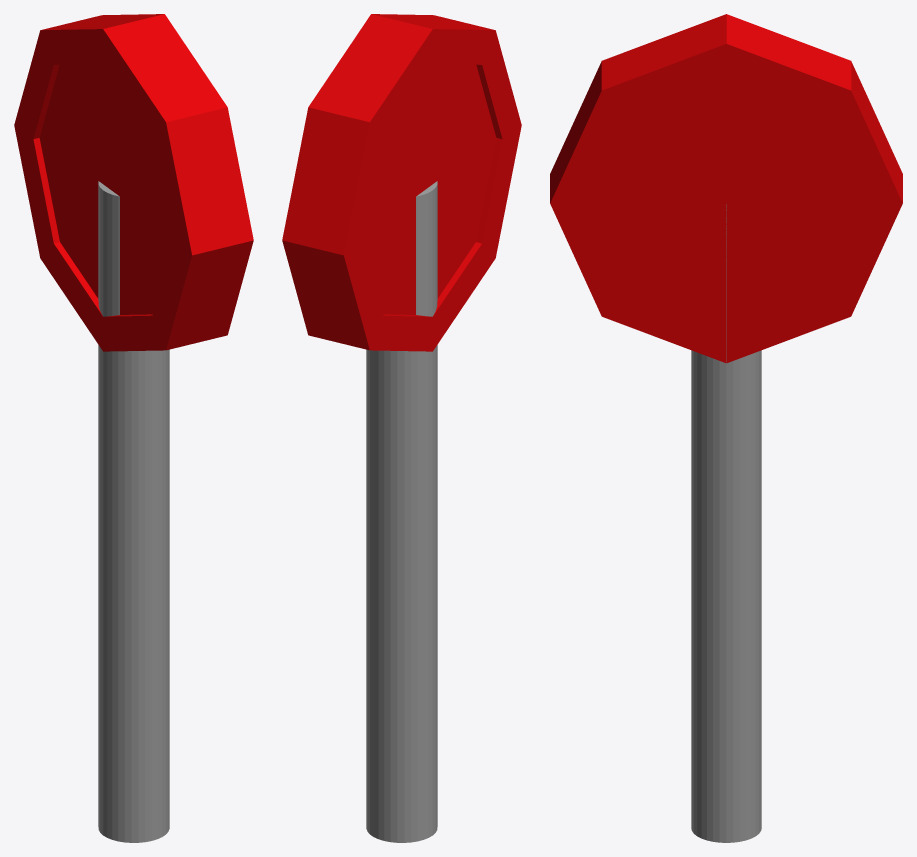
File: StopSign.fbx
The picture shows the model from 3 angles, left to right: view 1: azimuth 30°, elevation 25°; view 2: azimuth 150°, elevation 25°; view 3: azimuth 270°, elevation 25°; orthographic projection.
Visible parts, largest first — view 1: Cylinder; view 2: Cylinder; view 3: Cylinder.
Boxes of the visible parts, x1,y1,x2,y2 form: Cylinder: (14,14,253,842); Cylinder: (282,14,521,842); Cylinder: (550,14,902,842).
Bounding box in the file's own units: 10 × 125 × 50.
